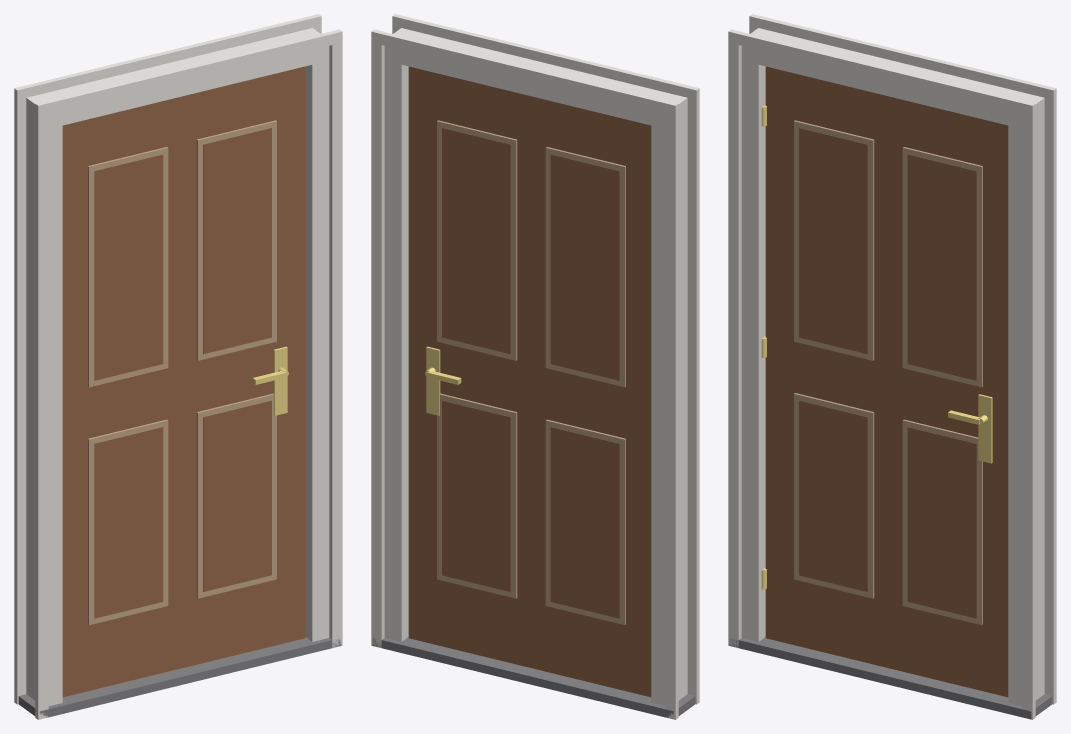
The model's file is Door_Classic_Panel.fbx.
3 views of the same model, side by side, from view 1: azimuth 30°, elevation 25°; view 2: azimuth 150°, elevation 25°; view 3: azimuth 330°, elevation 25° (orthographic).
Parts seen in each view (by area): view 1: Door_Classic_Leaf, Door_Classic_Frame, Door_Classic_Handle; view 2: Door_Classic_Leaf, Door_Classic_Frame, Door_Classic_Handle; view 3: Door_Classic_Leaf, Door_Classic_Frame, Door_Classic_Handle.
Part boxes in pixels (x1,y1,x2,y2): Door_Classic_Leaf: [62, 66, 305, 697]; Door_Classic_Frame: [14, 14, 342, 719]; Door_Classic_Handle: [252, 346, 288, 415]; Door_Classic_Leaf: [408, 66, 651, 697]; Door_Classic_Frame: [371, 14, 699, 719]; Door_Classic_Handle: [425, 346, 461, 415]; Door_Classic_Leaf: [765, 66, 1008, 697]; Door_Classic_Frame: [728, 14, 1056, 719]; Door_Classic_Handle: [948, 394, 992, 463].
Bounding box in the file's own units: 117 × 225 × 16.
